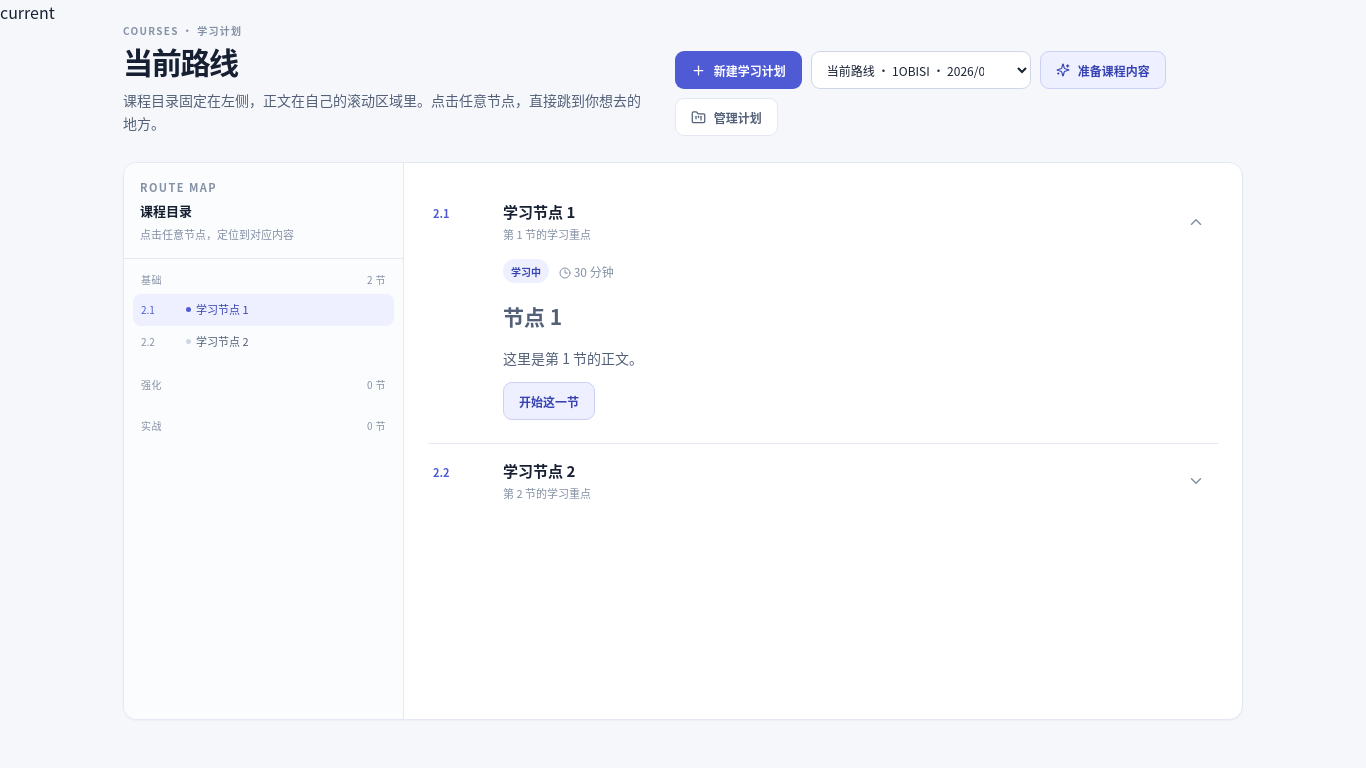
learning plan creation entry › selects and displays the newly generated roadmap without a manual refresh
Step 1. Click the button "新建学习计划" → (738, 70), box top-left (675, 51), bottom-right (802, 89)
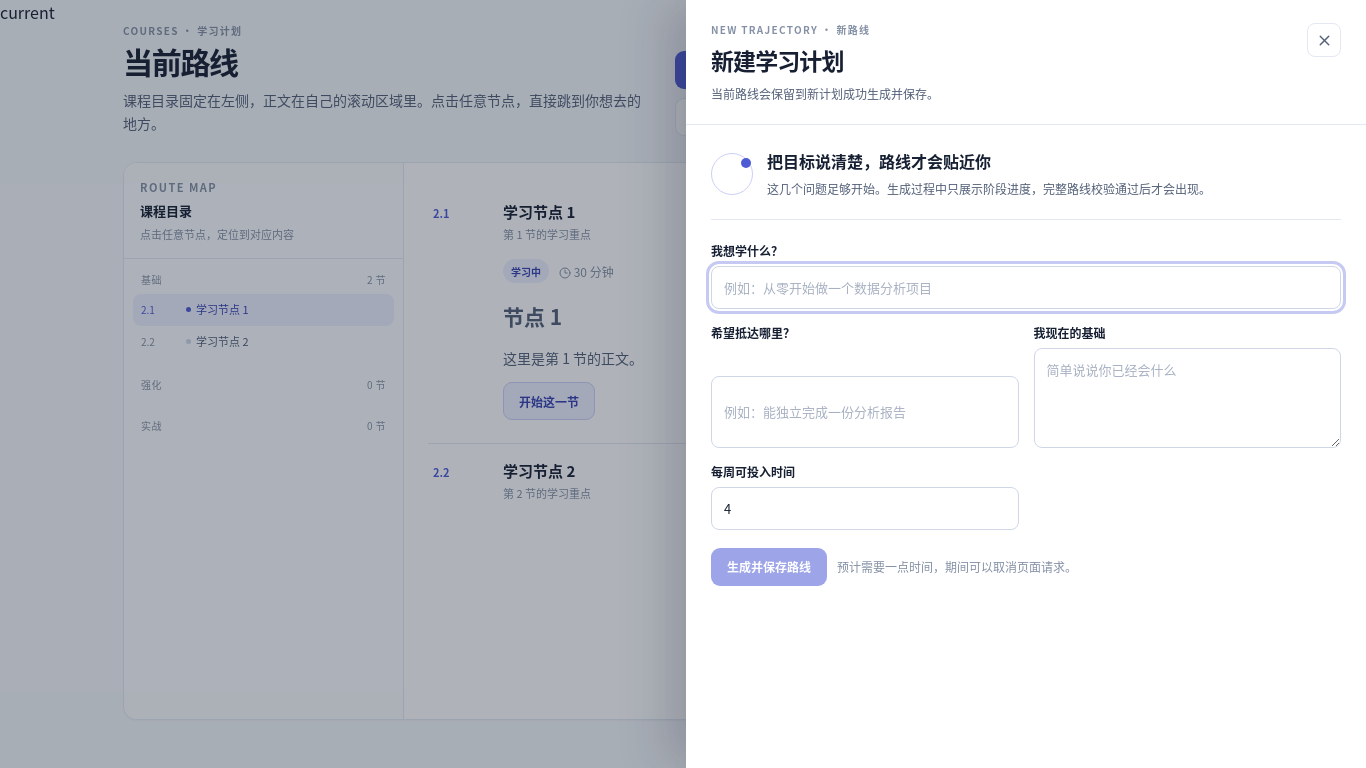
Step 2. Type "数据分析" into the field labelled "我想学什么？" → (1026, 287), box top-left (711, 266), bottom-right (1341, 309)
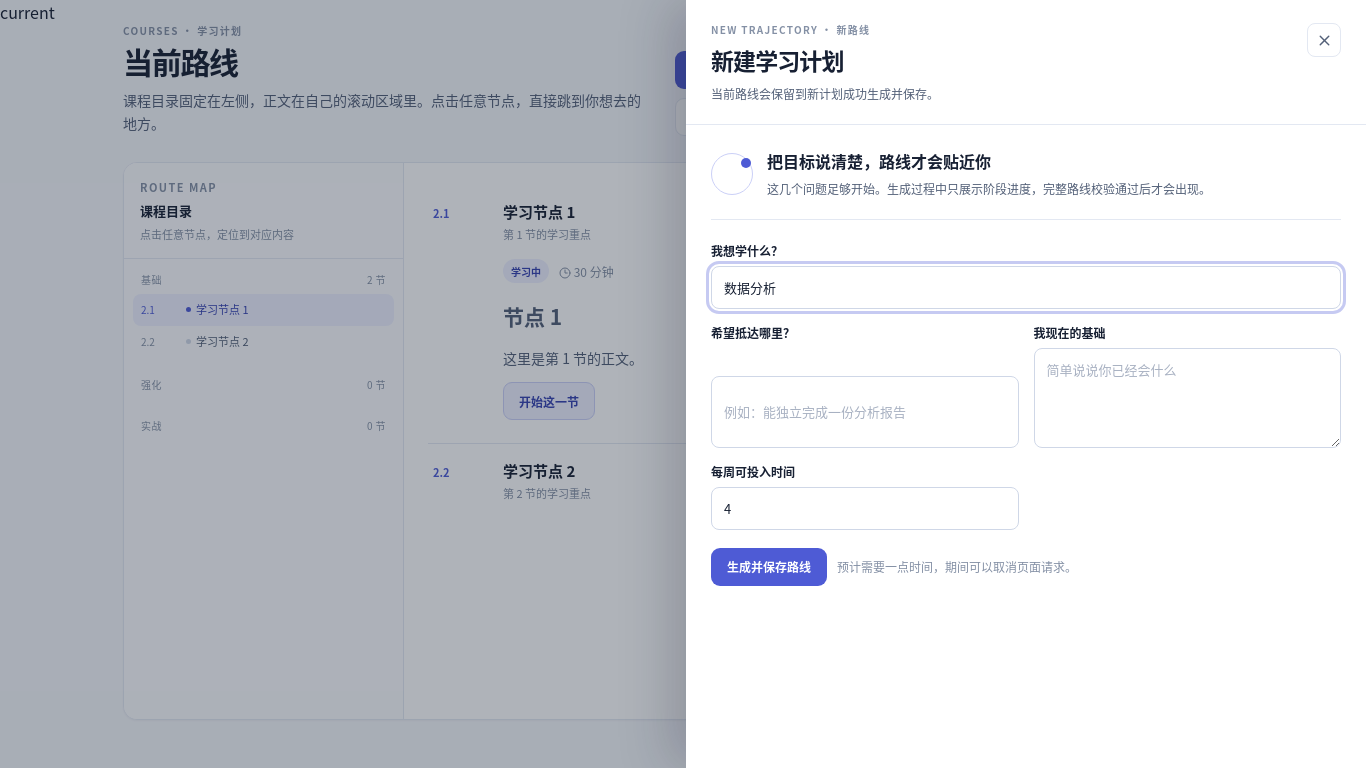
Step 3. Click the button "生成并保存路线" → (769, 567), box top-left (711, 548), bottom-right (827, 586)
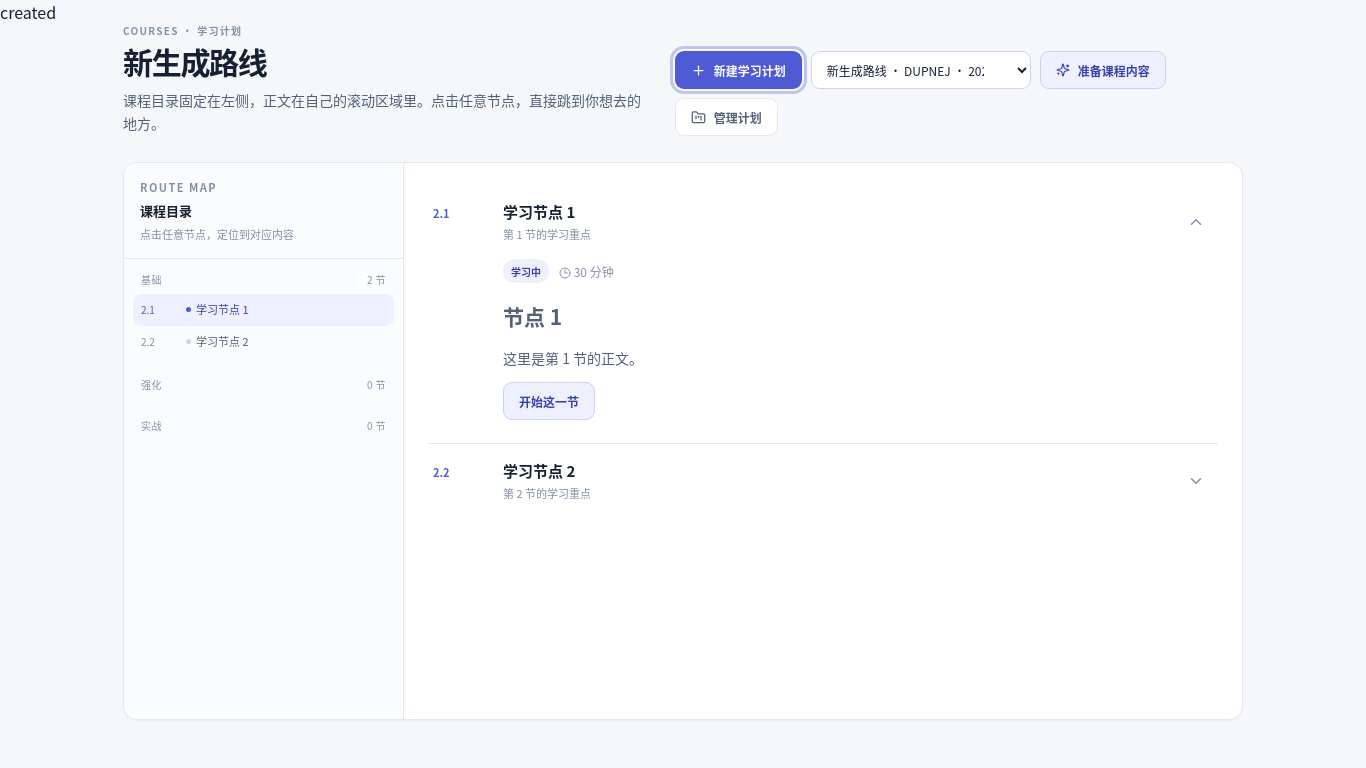
Check: the text named "当前选择" reads "created", box top-left (0, 0), bottom-right (56, 24)
Check: the heading "新生成路线" is shown, box top-left (123, 39), bottom-right (266, 83)
